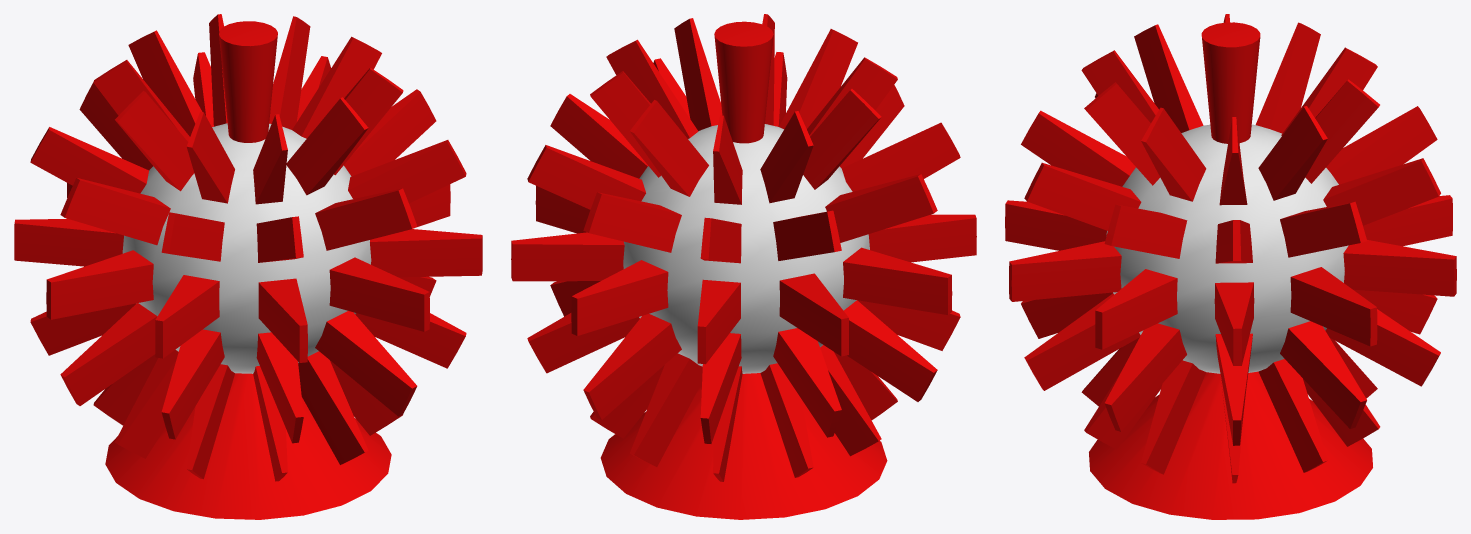
Rendered from virus_fat.fbx.
The picture shows the model from 3 angles, left to right: view 1: azimuth 30°, elevation 25°; view 2: azimuth 150°, elevation 25°; view 3: azimuth 270°, elevation 25°; orthographic projection.
Parts seen in each view (by area): view 1: virus_fat; view 2: virus_fat; view 3: virus_fat.
Boxes of the visible parts, x1,y1,x2,y2 form: virus_fat: (14, 14, 482, 519); virus_fat: (511, 14, 976, 519); virus_fat: (1005, 14, 1456, 519).
Size of the model in its own units: 1.73 by 1.77 by 1.67.
